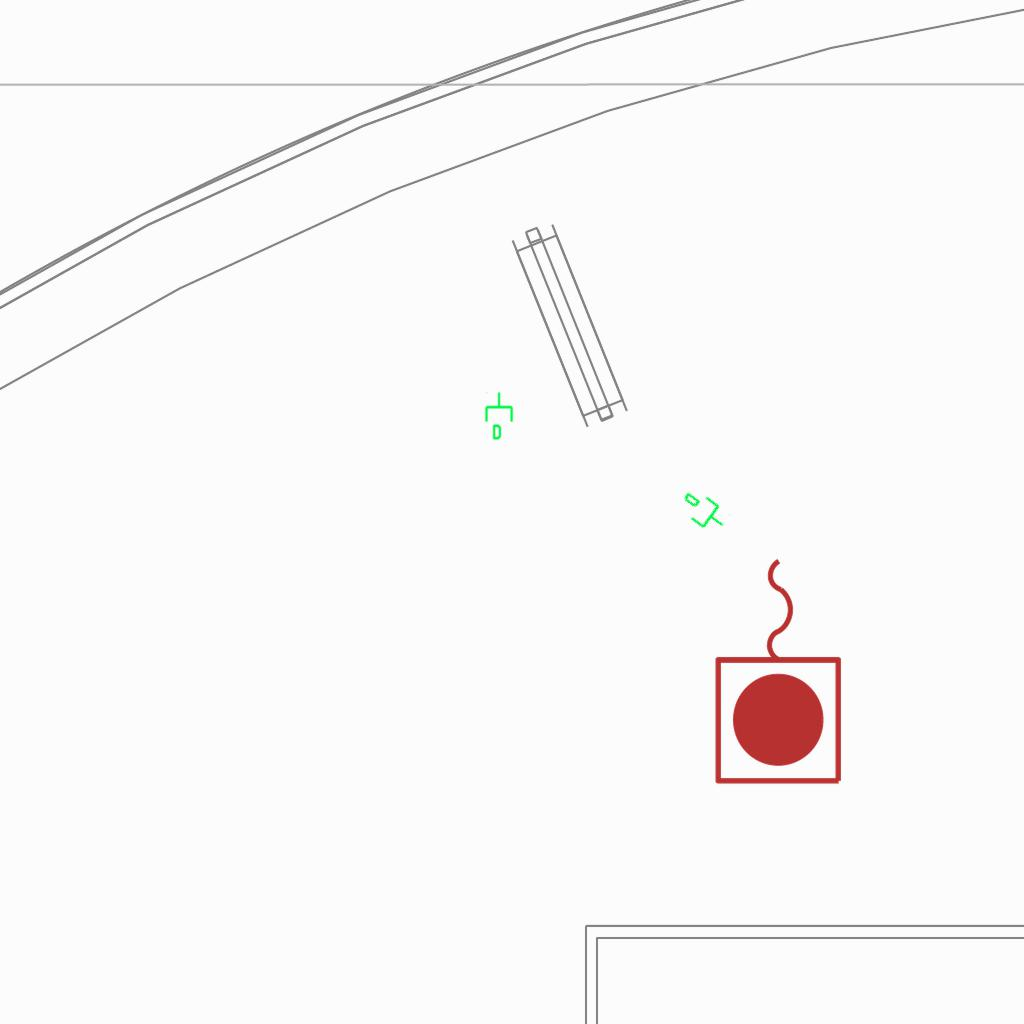Datenanschluss_einfach: (672, 483, 734, 541), (483, 391, 517, 441)
Zugtaster: (708, 548, 852, 792)
